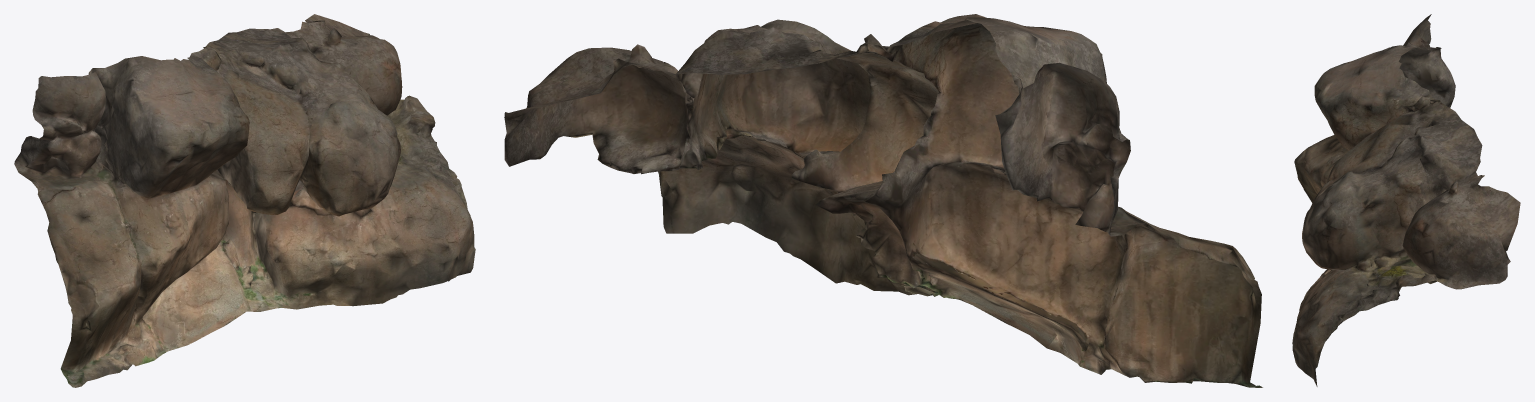
Rendered from acantilado_02.glb.
The picture shows the model from 3 angles, left to right: view 1: azimuth 30°, elevation 25°; view 2: azimuth 150°, elevation 25°; view 3: azimuth 270°, elevation 25°; orthographic projection. The views are drawn at different scales.
Visible parts, largest first — view 1: drone_rock_01; view 2: drone_rock_01; view 3: drone_rock_01.
Boxes of the visible parts, x1,y1,x2,y2 form: drone_rock_01: (14, 14, 475, 387); drone_rock_01: (504, 14, 1262, 387); drone_rock_01: (1292, 14, 1520, 386).
Bounding box in the file's own units: 5 × 3 × 2.65.
Materials: 1 (1 with a texture image).
